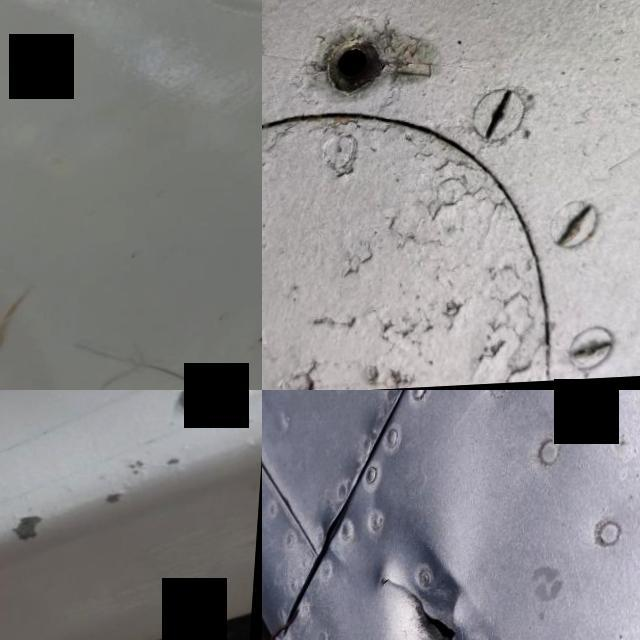Crack: (0, 450, 188, 568), (57, 290, 262, 390), (351, 524, 525, 640), (176, 390, 261, 414)
Missing_Fastener: (293, 0, 433, 138)
